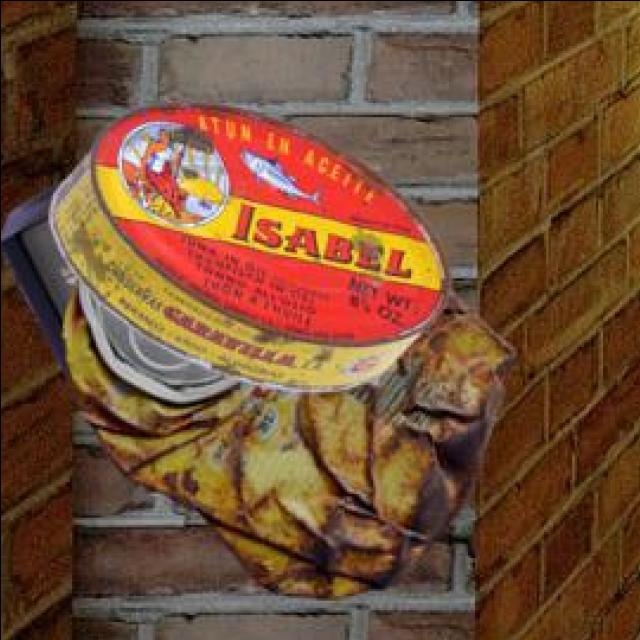logam: (65, 283, 518, 601), (51, 105, 454, 395), (1, 186, 82, 388)
